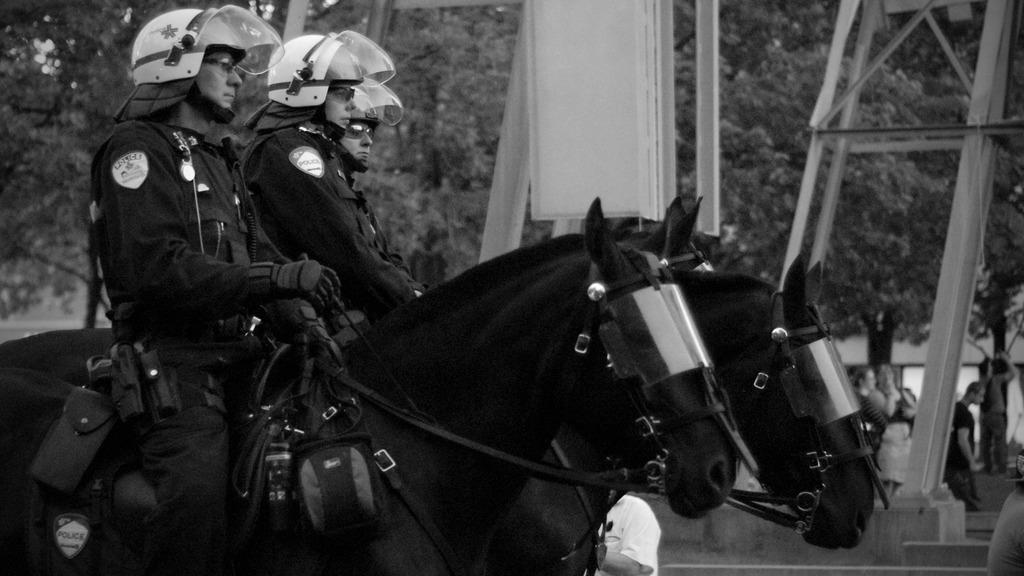helmet: (131, 5, 286, 107), (267, 31, 396, 131), (294, 78, 404, 164)
